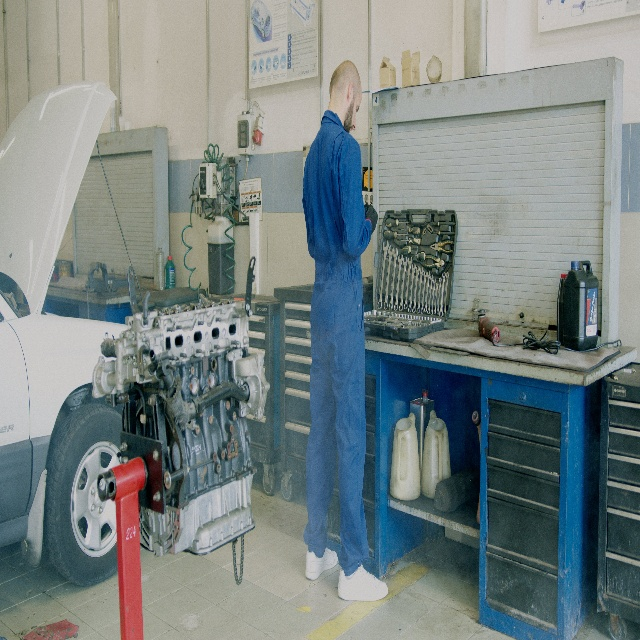Guantes: (365, 204, 378, 234), (364, 203, 369, 213)
